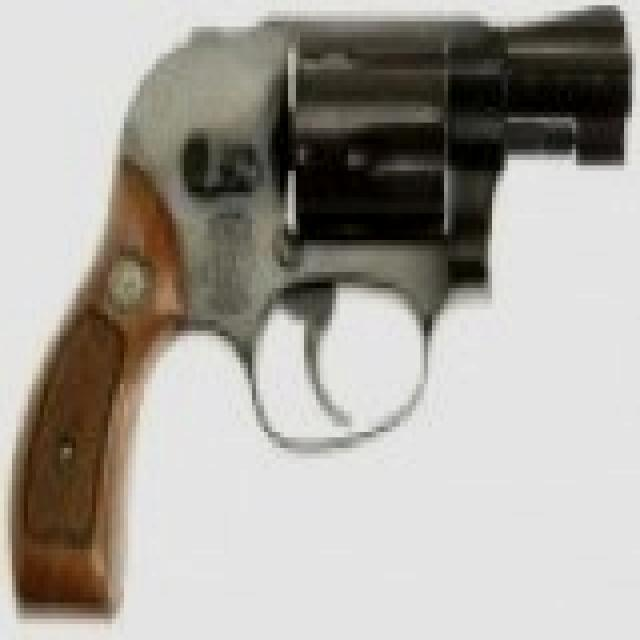pistol: (12, 0, 640, 635)
